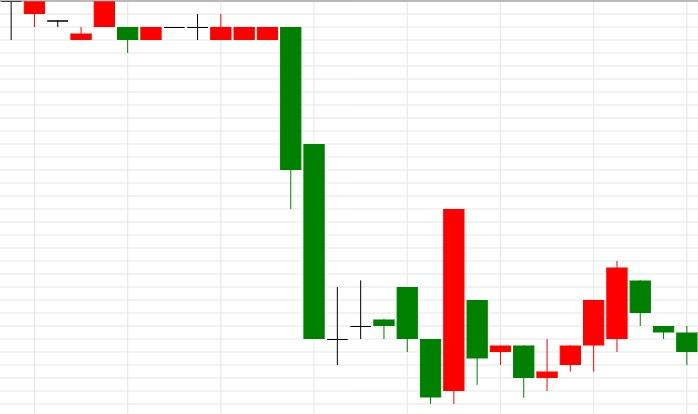bullish_engulfing_rise: (372, 208, 466, 404)
three_black_crows_fall: (536, 261, 698, 391)
three_white_soldiers_rise: (442, 208, 605, 404)
